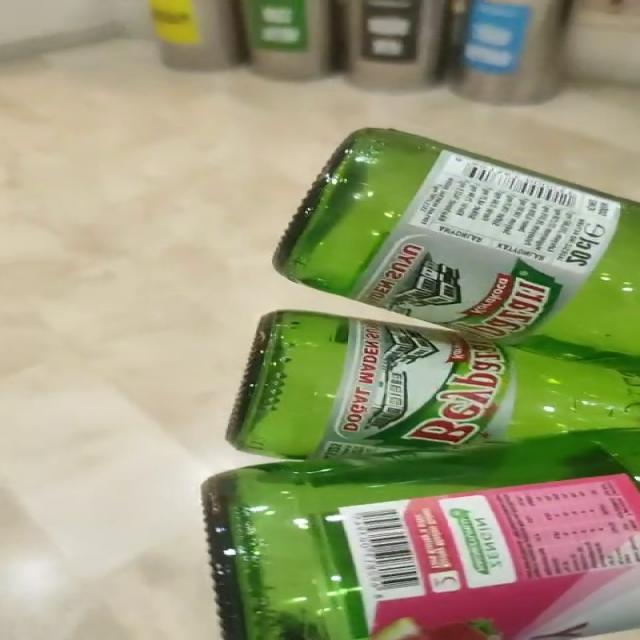Glass: (201, 128, 639, 640)
